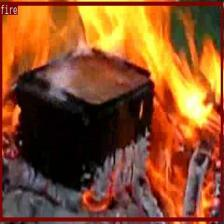fire: (0, 2, 222, 220)
